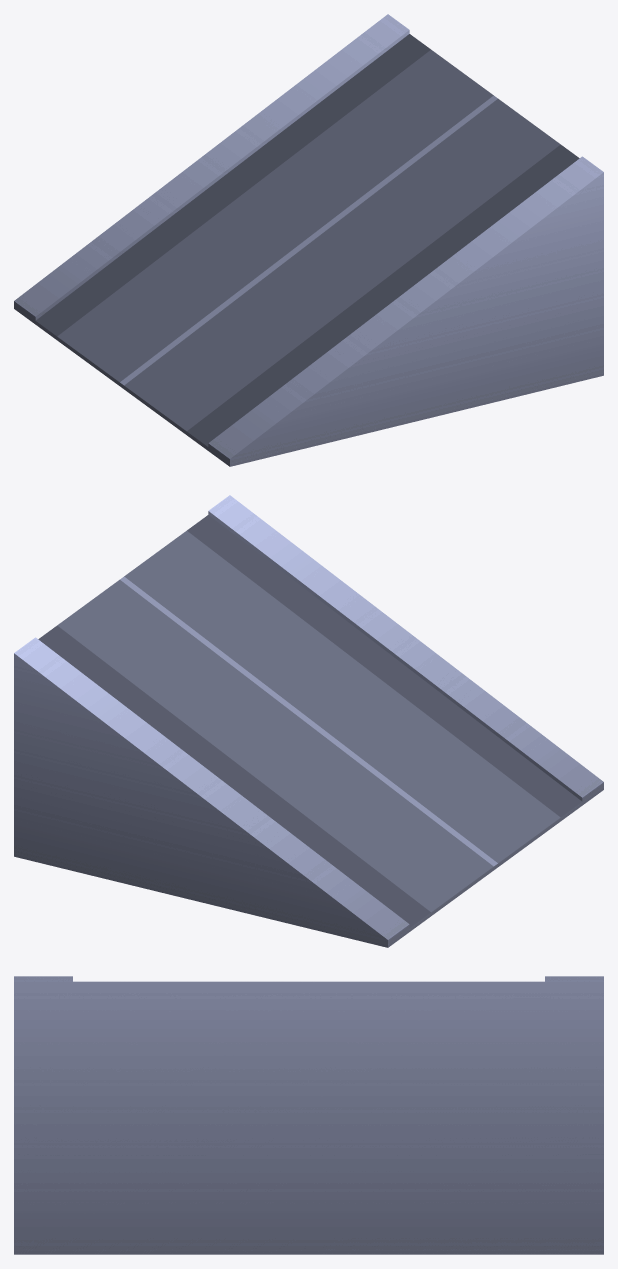
File: road-slant-high.glb
3 views of the same model, one above another, from view 1: azimuth 30°, elevation 25°; view 2: azimuth 150°, elevation 25°; view 3: azimuth 270°, elevation 25° (orthographic). The views are drawn at different scales.
Visible parts, largest first — view 1: road-slant-high; view 2: road-slant-high; view 3: road-slant-high.
Boxes of the visible parts, bbox=[...] form: road-slant-high: bbox=[14, 14, 603, 466]; road-slant-high: bbox=[14, 495, 603, 947]; road-slant-high: bbox=[14, 976, 603, 1254].
Size of the model in its own units: 1 by 0.52 by 1.
